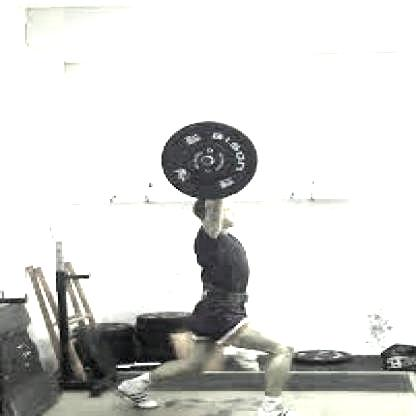Barbell: (199, 156, 217, 170)
